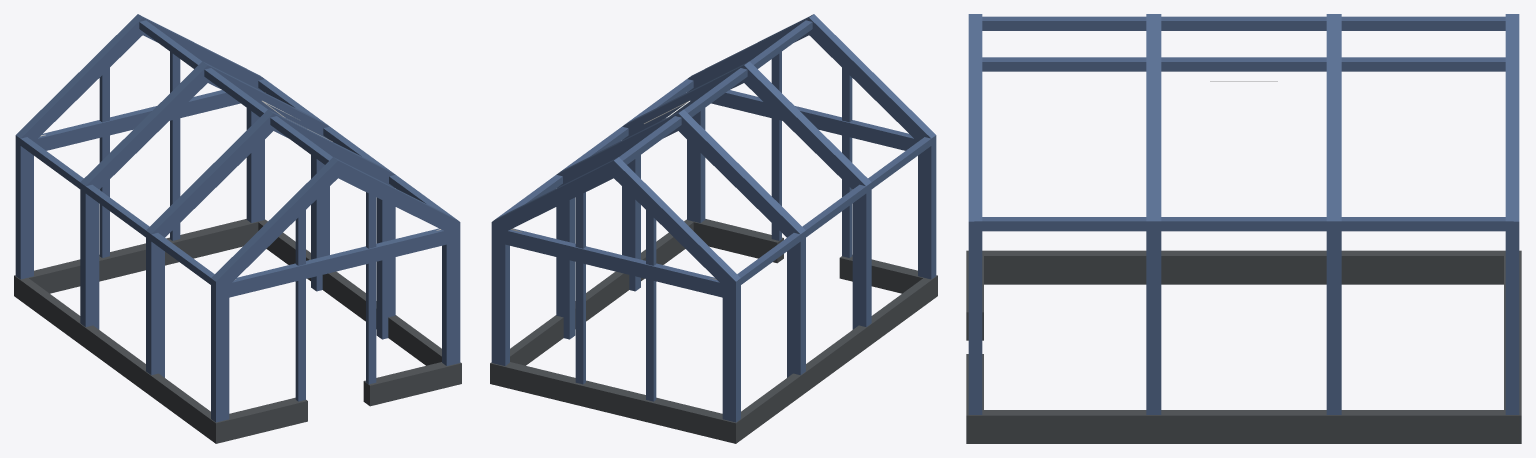
The model's file is Mesh_Buildings_Greenhouse_01-NoGlass_V2.obj.
The picture shows the model from 3 angles, left to right: view 1: azimuth 30°, elevation 25°; view 2: azimuth 150°, elevation 25°; view 3: azimuth 270°, elevation 25°; orthographic projection. The views are drawn at different scales.
Visible parts, largest first — view 1: Mesh_Buildings_Greenhouse_01-NoGlass_V2_M_LowPolyFarm_MAIN; view 2: Mesh_Buildings_Greenhouse_01-NoGlass_V2_M_LowPolyFarm_MAIN; view 3: Mesh_Buildings_Greenhouse_01-NoGlass_V2_M_LowPolyFarm_MAIN.
Boxes of the visible parts, bbox=[...] form: Mesh_Buildings_Greenhouse_01-NoGlass_V2_M_LowPolyFarm_MAIN: bbox=[14, 14, 461, 443]; Mesh_Buildings_Greenhouse_01-NoGlass_V2_M_LowPolyFarm_MAIN: bbox=[490, 14, 937, 443]; Mesh_Buildings_Greenhouse_01-NoGlass_V2_M_LowPolyFarm_MAIN: bbox=[966, 14, 1521, 443].
Bounding box in the file's own units: 3.62 × 3.56 × 5.15.
Materials: 2 (1 with a texture image).
